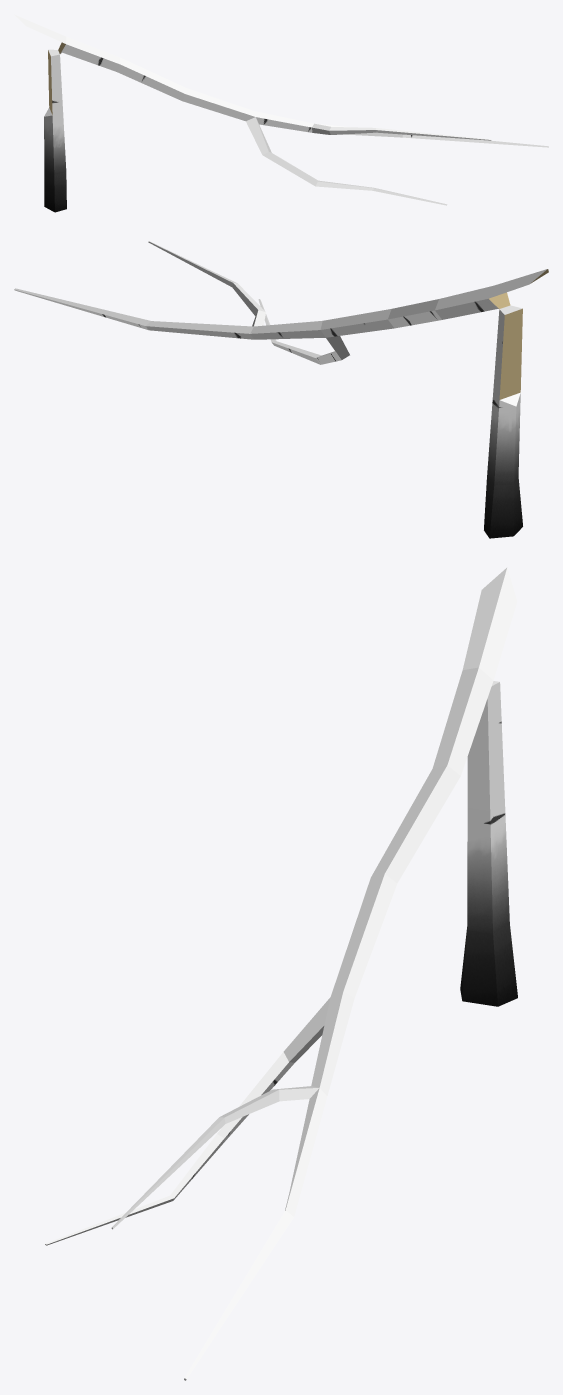
Rendered from Birch_Tree_NoLeaves_crk_l_Snow_02_LOD.fbx.
3 renders of one model, top to bottom at view 1: azimuth 30°, elevation 25°; view 2: azimuth 150°, elevation 25°; view 3: azimuth 270°, elevation 25°, orthographic. The views are drawn at different scales.
Visible parts, largest first — view 1: Birch_Tree_NoLeaves_crk_l_Snow_02_LOD0; view 2: Birch_Tree_NoLeaves_crk_l_Snow_02_LOD0; view 3: Birch_Tree_NoLeaves_crk_l_Snow_02_LOD0.
Part boxes in pixels (left/top/right/bottom): Birch_Tree_NoLeaves_crk_l_Snow_02_LOD0: left=14, top=14, right=548, bottom=212; Birch_Tree_NoLeaves_crk_l_Snow_02_LOD0: left=14, top=241, right=548, bottom=538; Birch_Tree_NoLeaves_crk_l_Snow_02_LOD0: left=45, top=567, right=517, bottom=1380.
Size of what is drawn, in the model's own units: 1396 by 577 by 629.
